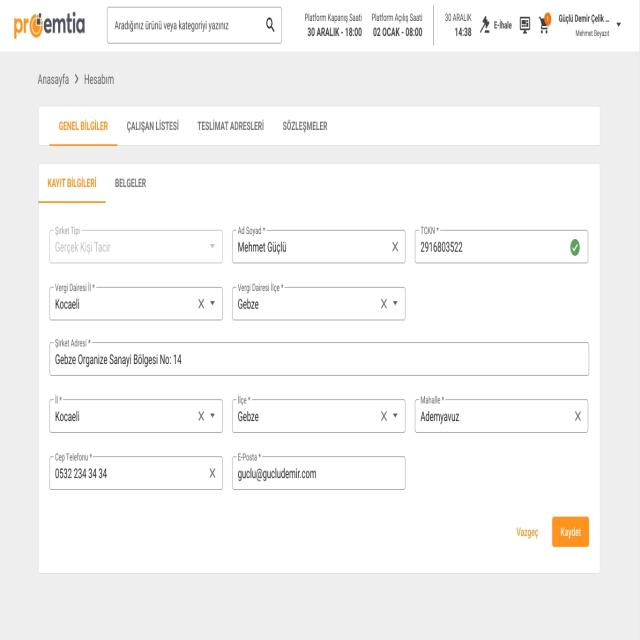QLabel: (55, 116, 111, 135), (44, 175, 100, 193), (196, 119, 265, 133), (124, 118, 180, 134), (282, 117, 328, 135), (304, 10, 362, 24), (307, 26, 362, 39), (371, 12, 423, 24), (558, 12, 610, 24), (373, 26, 422, 38), (112, 176, 150, 190), (515, 524, 539, 543), (444, 10, 472, 24), (575, 28, 610, 39), (558, 525, 583, 540), (493, 19, 513, 31), (454, 25, 472, 38)
VAppBar: (0, 0, 640, 53)
VBadge: (538, 10, 553, 37)
VBreadcrumbs: (35, 71, 116, 88)
VBtn: (506, 516, 546, 549), (551, 516, 590, 548)
VCard: (38, 162, 602, 574)
VCombobox: (232, 393, 406, 435), (49, 394, 224, 434), (49, 282, 223, 322), (231, 283, 406, 322), (49, 227, 223, 264)
VDivider: (432, 3, 434, 48)
VIcon: (478, 14, 491, 37), (519, 15, 531, 35), (615, 20, 622, 28)
VImg: (12, 10, 86, 40)
VTab: (190, 110, 271, 142), (46, 110, 117, 144), (40, 172, 107, 204), (122, 108, 182, 142), (108, 172, 164, 202), (279, 112, 331, 141)
VTabs: (38, 105, 602, 147), (39, 168, 597, 206)
VTextField: (49, 338, 590, 378), (106, 5, 282, 45), (231, 225, 406, 265), (49, 452, 223, 492), (415, 394, 588, 434), (232, 453, 406, 491), (414, 226, 588, 264)
